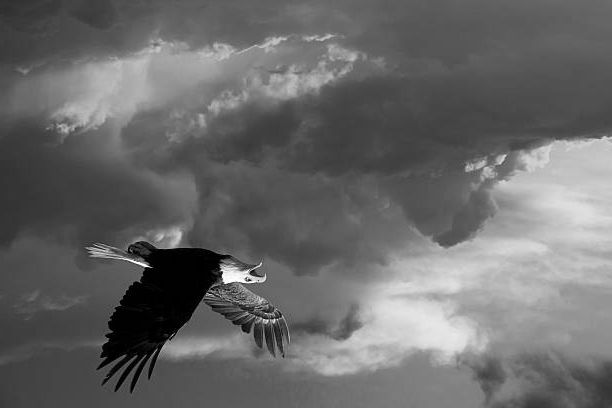Bird: (79, 236, 293, 394)
